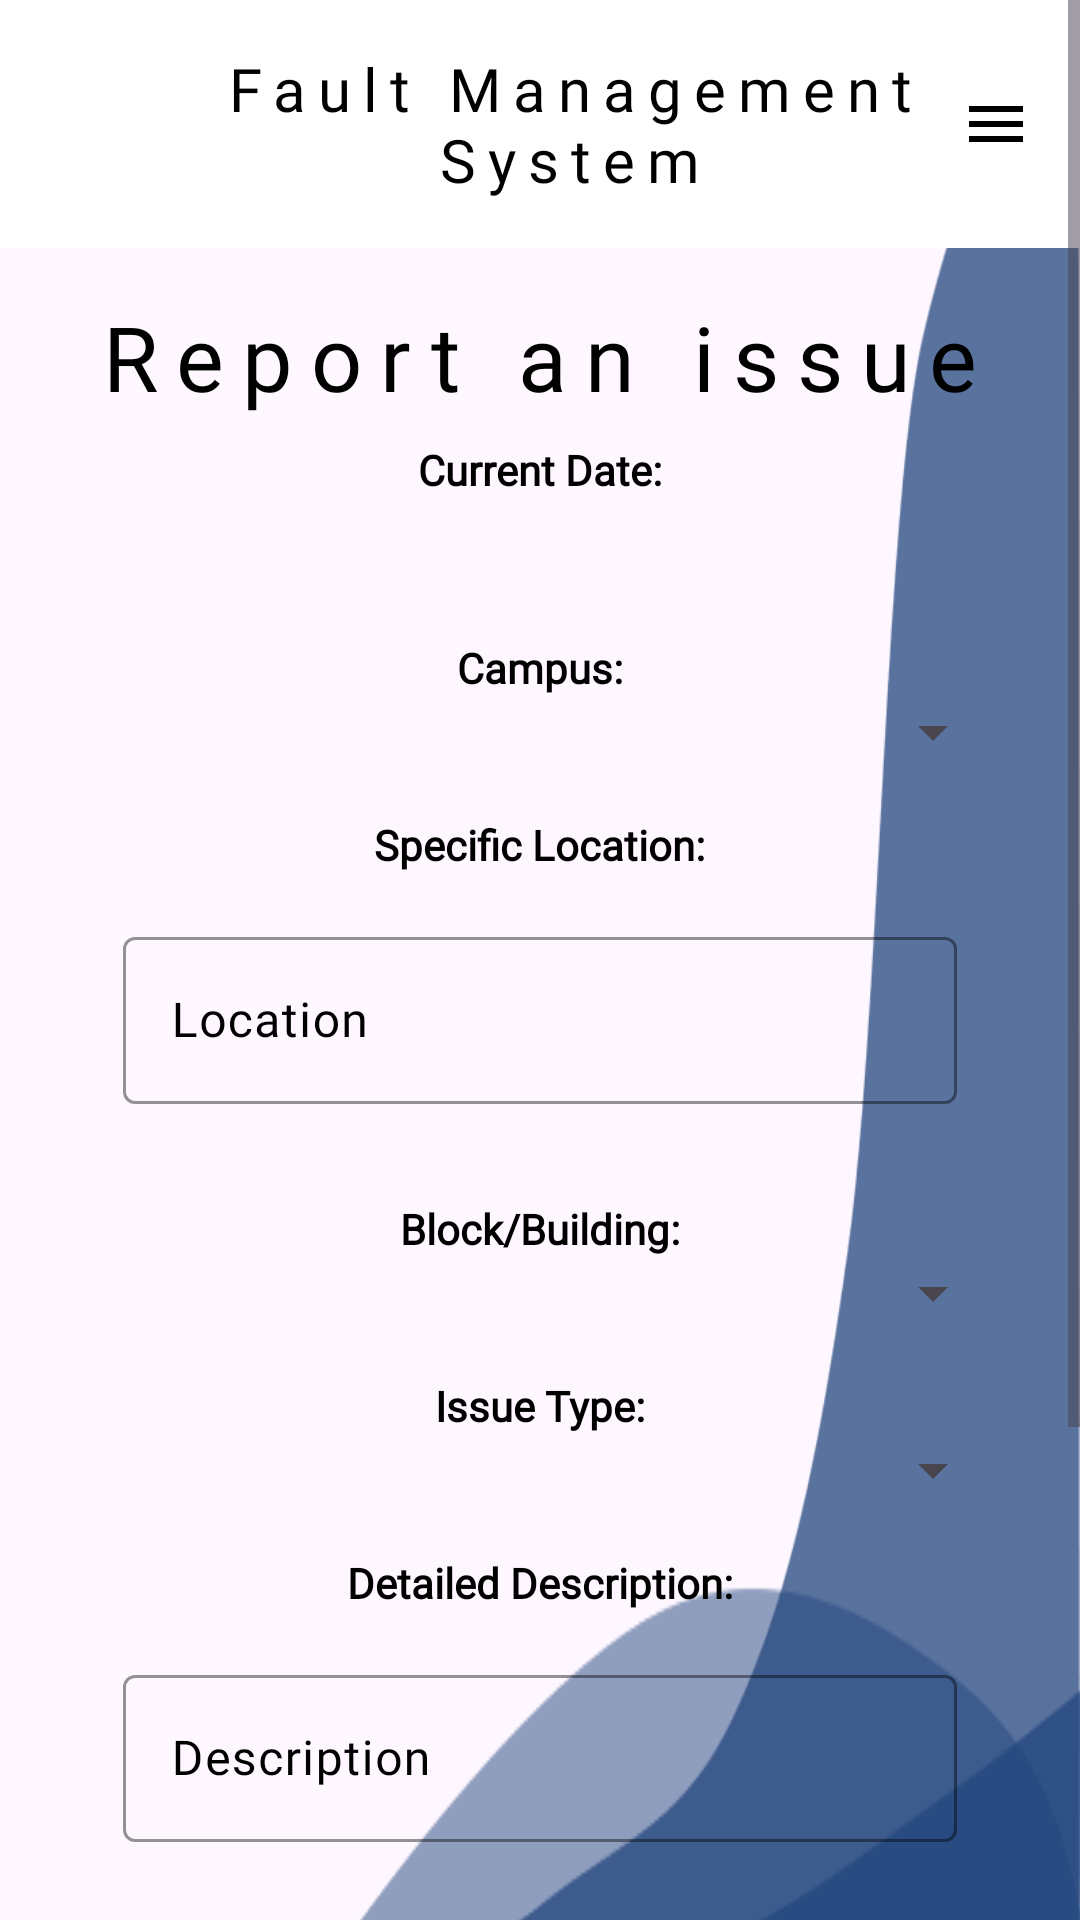

Screen size 1080px x 1920px. Icon name, then its center in pixels as [x,y]:
menu: [996,124]
